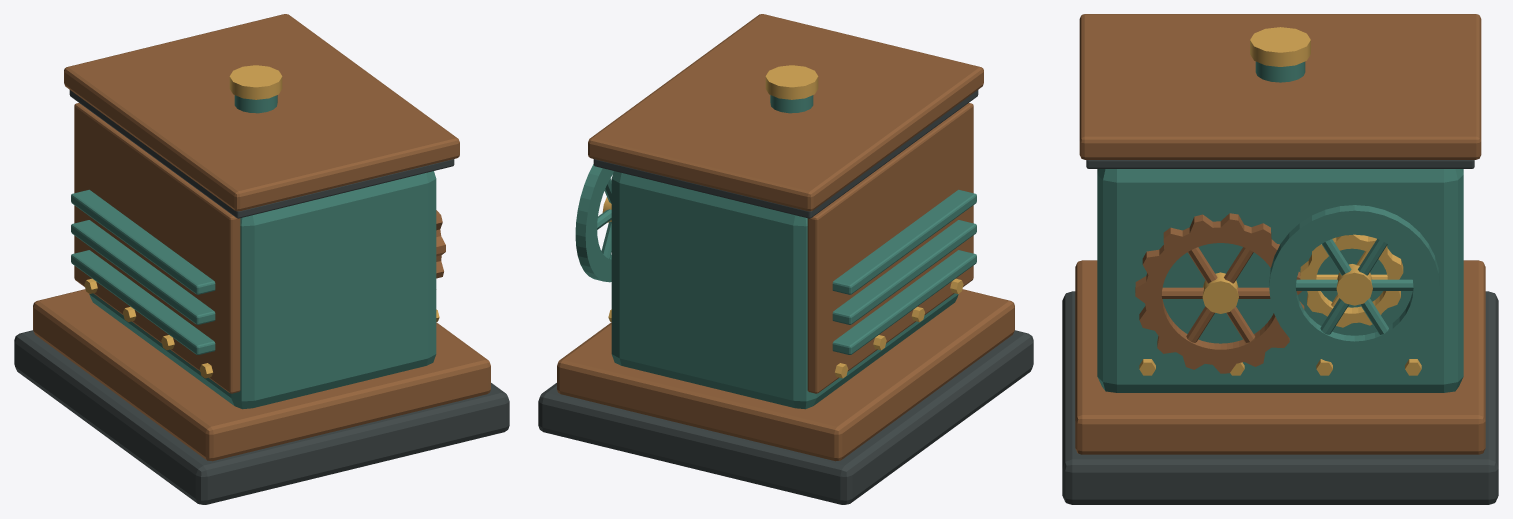
File: cover-sluice-gearbox.glb
3 views of the same model, side by side, from view 1: azimuth 30°, elevation 25°; view 2: azimuth 150°, elevation 25°; view 3: azimuth 270°, elevation 25° (orthographic). The views are drawn at different scales.
Parts seen in each view (by area): view 1: Bevel casting lid, Oil-tight casting, Bronze mounting bed, Machine sill, Rear cast plate, Rear heat fin.002, Rear heat fin, Rear heat fin.001, Cover gasket, Filler cap, Oil filler; view 2: Bevel casting lid, Oil-tight casting, Bronze mounting bed, Machine sill, Rear cast plate, Rear heat fin.002, Rear heat fin, Rear heat fin.001, Cover gasket, Operator rim open rim, Filler cap, Oil filler; view 3: Bevel casting lid, Oil-tight casting, Bronze mounting bed, Machine sill, Operator rim open rim, Reduction gear open rim, Cover gasket, Driving pinion open rim, Filler cap, Reduction gear keyed axle, Operator rim keyed axle, Operator rim spoke (+6 smaller).
Part boxes in pixels (<box>): Bevel casting lid: <box>64,14,459,211</box>; Oil-tight casting: <box>89,171,436,409</box>; Bronze mounting bed: <box>33,289,490,461</box>; Machine sill: <box>14,330,509,504</box>; Rear cast plate: <box>74,103,240,393</box>; Rear heat fin.002: <box>71,189,215,294</box>; Rear heat fin: <box>71,250,215,354</box>; Rear heat fin.001: <box>71,220,215,324</box>; Cover gasket: <box>69,90,454,218</box>; Filler cap: <box>229,65,282,99</box>; Oil filler: <box>234,95,277,113</box>; Bevel casting lid: <box>588,14,983,211</box>; Oil-tight casting: <box>611,171,958,409</box>; Bronze mounting bed: <box>557,289,1014,461</box>; Machine sill: <box>538,330,1033,504</box>; Rear cast plate: <box>807,103,973,393</box>; Rear heat fin.002: <box>832,189,976,294</box>; Rear heat fin: <box>832,250,976,354</box>; Rear heat fin.001: <box>832,220,976,324</box>; Cover gasket: <box>593,90,978,218</box>; Operator rim open rim: <box>575,164,613,282</box>; Filler cap: <box>765,65,818,99</box>; Oil filler: <box>770,95,813,113</box>; Bevel casting lid: <box>1079,14,1481,159</box>; Oil-tight casting: <box>1097,169,1463,392</box>; Bronze mounting bed: <box>1075,260,1485,454</box>; Machine sill: <box>1062,291,1498,504</box>; Operator rim open rim: <box>1269,205,1439,365</box>; Reduction gear open rim: <box>1135,213,1304,373</box>; Cover gasket: <box>1086,160,1474,168</box>; Driving pinion open rim: <box>1300,234,1403,327</box>; Filler cap: <box>1250,27,1310,66</box>; Reduction gear keyed axle: <box>1202,272,1238,313</box>; Operator rim keyed axle: <box>1336,264,1372,305</box>; Operator rim spoke: <box>1295,279,1413,290</box>.
Bounding box in the file's own units: 2.1 × 2.1 × 2.2.
